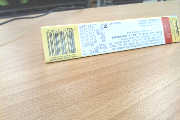Chocolate: (37, 17, 180, 65)
